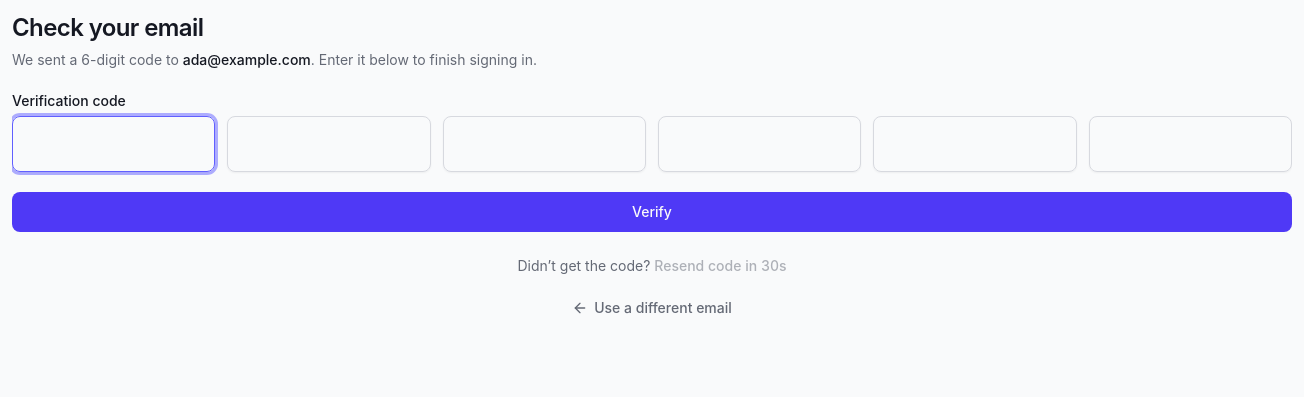
Test: OneTimeCodeForm › clears a wrong code and returns to the first digit
The image size is (1304, 397).
Step 1. Type keys "000000"
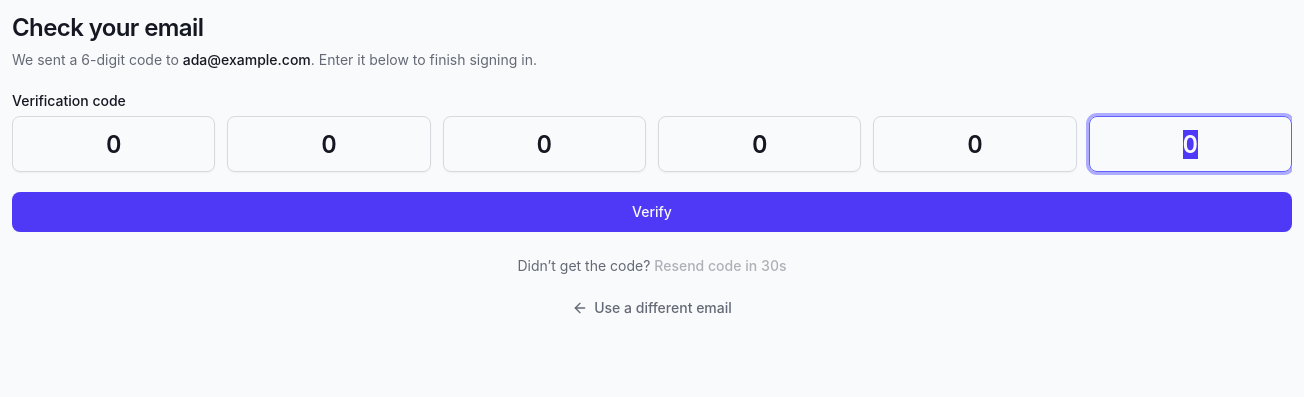
Step 2. Click the button "Verify" → (652, 212), box [12,192,1292,232]
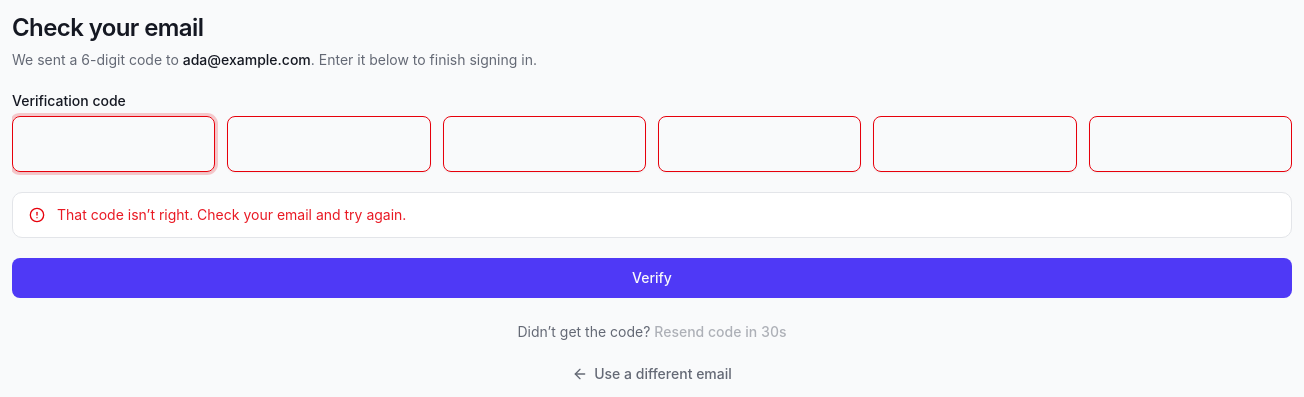
Now the message reads "That code isn’t right. Check your email and try again.", box [57,206,406,223]
Now the field named "Digit 1 of 6" is empty, box [12,116,215,172]
